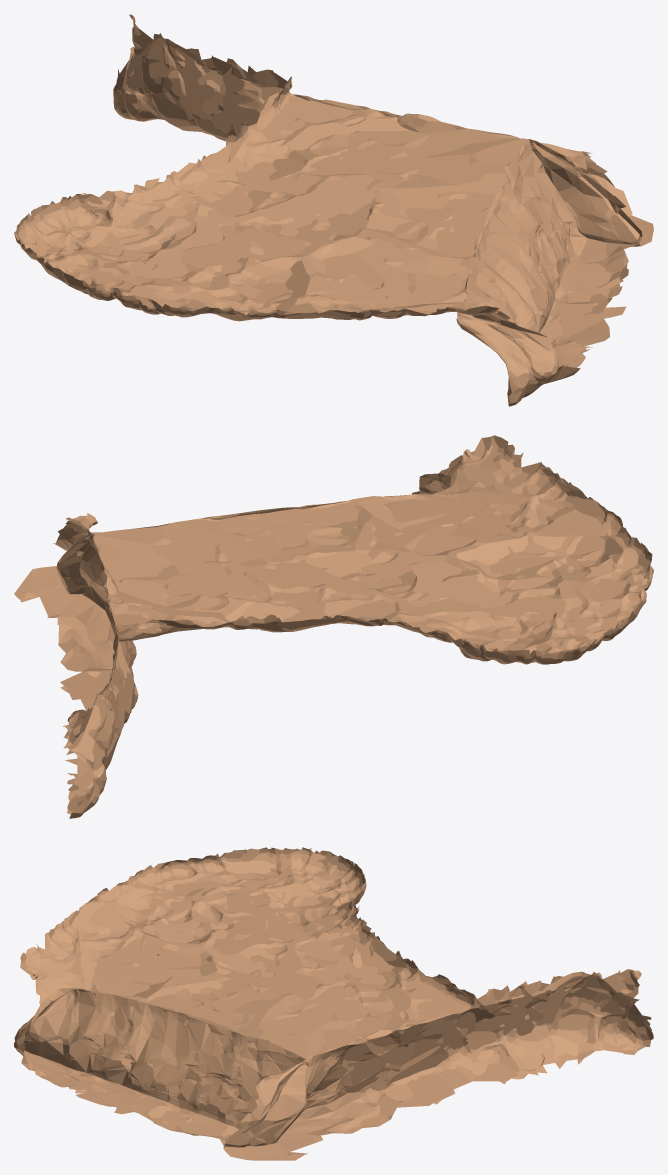
The model's file is SandstoneBig_Mesh_25_002LODs.fbx.
3 renders of one model, top to bottom at view 1: azimuth 30°, elevation 25°; view 2: azimuth 150°, elevation 25°; view 3: azimuth 270°, elevation 25°, orthographic. The views are drawn at different scales.
Parts seen in each view (by area): view 1: Mesh_25.002_LOD0; view 2: Mesh_25.002_LOD0; view 3: Mesh_25.002_LOD0.
Part boxes in pixels (x1,y1,x2,y2): Mesh_25.002_LOD0: (14, 14, 653, 406); Mesh_25.002_LOD0: (14, 435, 653, 818); Mesh_25.002_LOD0: (14, 847, 653, 1160).
Size of what is drawn, in the model's own units: 19768 by 3543 by 23022.
